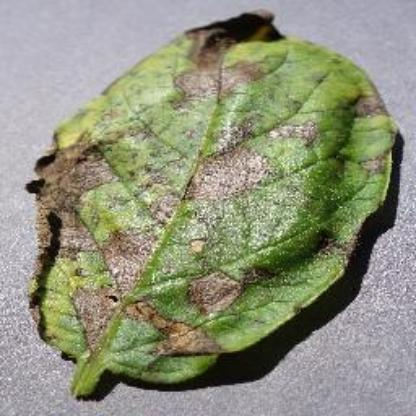Early-Blight: (22, 3, 404, 397)
